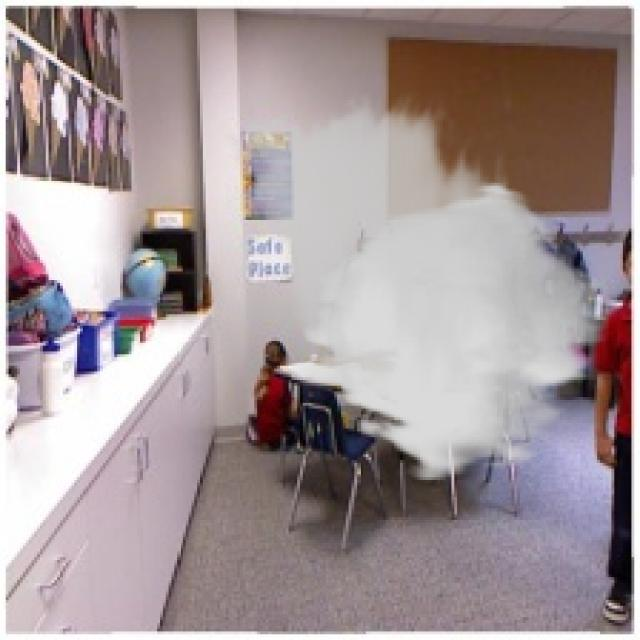smoke: (217, 91, 609, 483)
